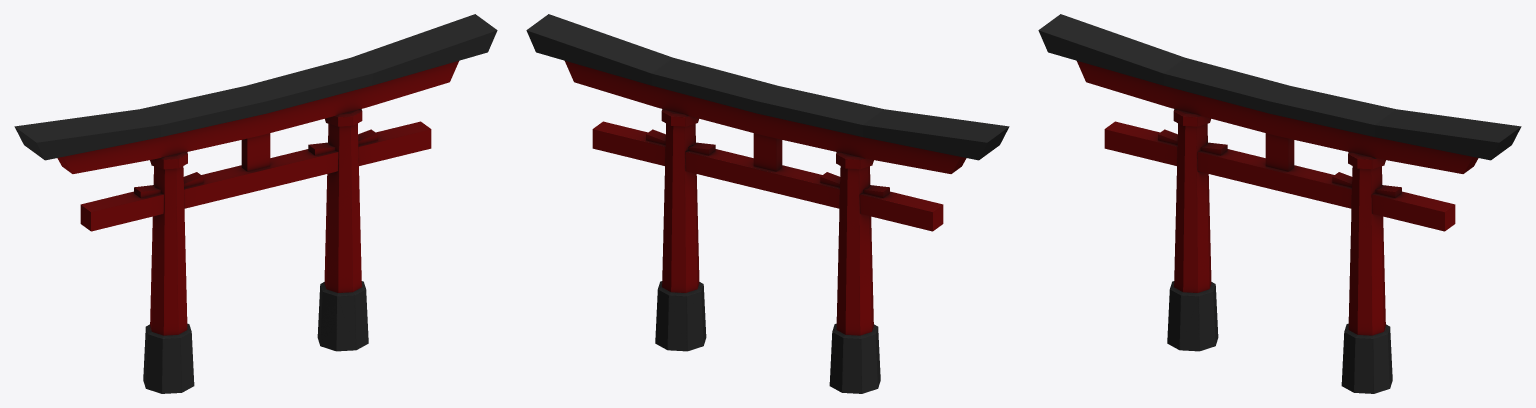
File: Arka.fbx
3 renders of one model, left to right at view 1: azimuth 30°, elevation 25°; view 2: azimuth 150°, elevation 25°; view 3: azimuth 330°, elevation 25°, orthographic.
Parts seen in each view (by area): view 1: арка 1; view 2: арка 1; view 3: арка 1.
Boxes of the visible parts, x1,y1,x2,y2 form: арка 1: (14, 14, 497, 393); арка 1: (526, 14, 1009, 393); арка 1: (1038, 14, 1521, 393).
Bounding box in the file's own units: 1712 × 1006 × 170.
